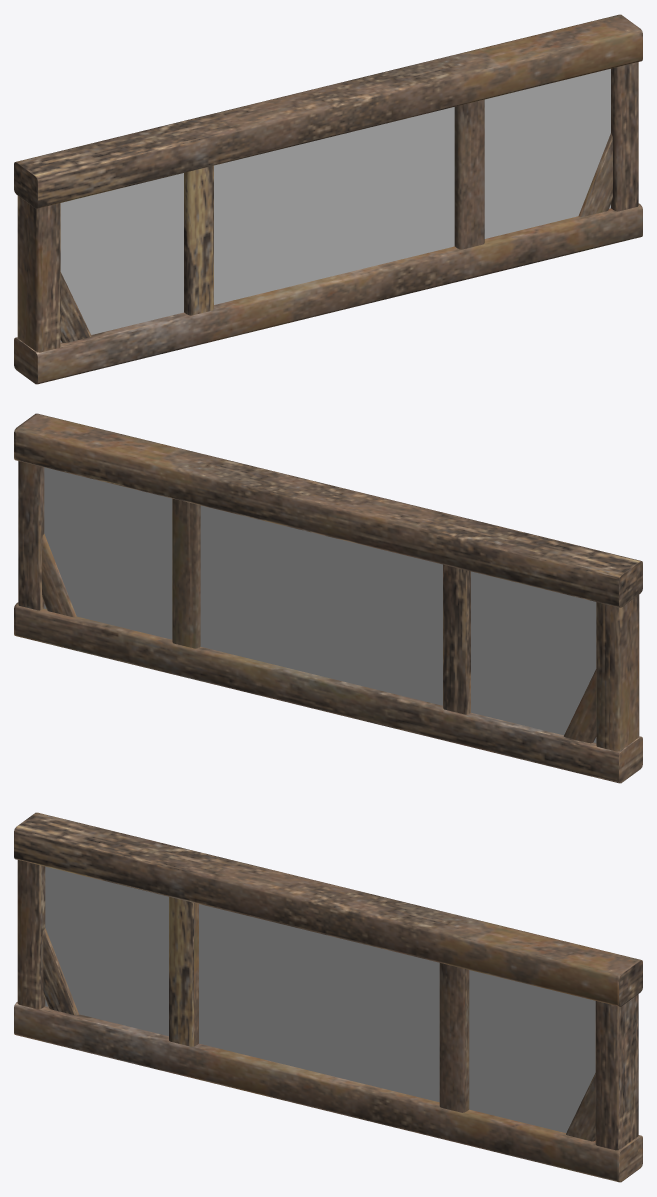
The model's file is HalfTimber_ShortWideB_Closed.fbx.
The picture shows the model from 3 angles, top to bottom: view 1: azimuth 30°, elevation 25°; view 2: azimuth 150°, elevation 25°; view 3: azimuth 330°, elevation 25°; orthographic projection.
Parts seen in each view (by area): view 1: HalfTimber_ShortWideB_Closed_LOD0; view 2: HalfTimber_ShortWideB_Closed_LOD0; view 3: HalfTimber_ShortWideB_Closed_LOD0.
Boxes of the visible parts, left/top/right/bottom form: HalfTimber_ShortWideB_Closed_LOD0: left=14, top=14, right=642, bottom=384; HalfTimber_ShortWideB_Closed_LOD0: left=14, top=413, right=642, bottom=783; HalfTimber_ShortWideB_Closed_LOD0: left=14, top=812, right=642, bottom=1182.
Size of what is drawn, in the model's own units: 120 by 39.34 by 8.18.
